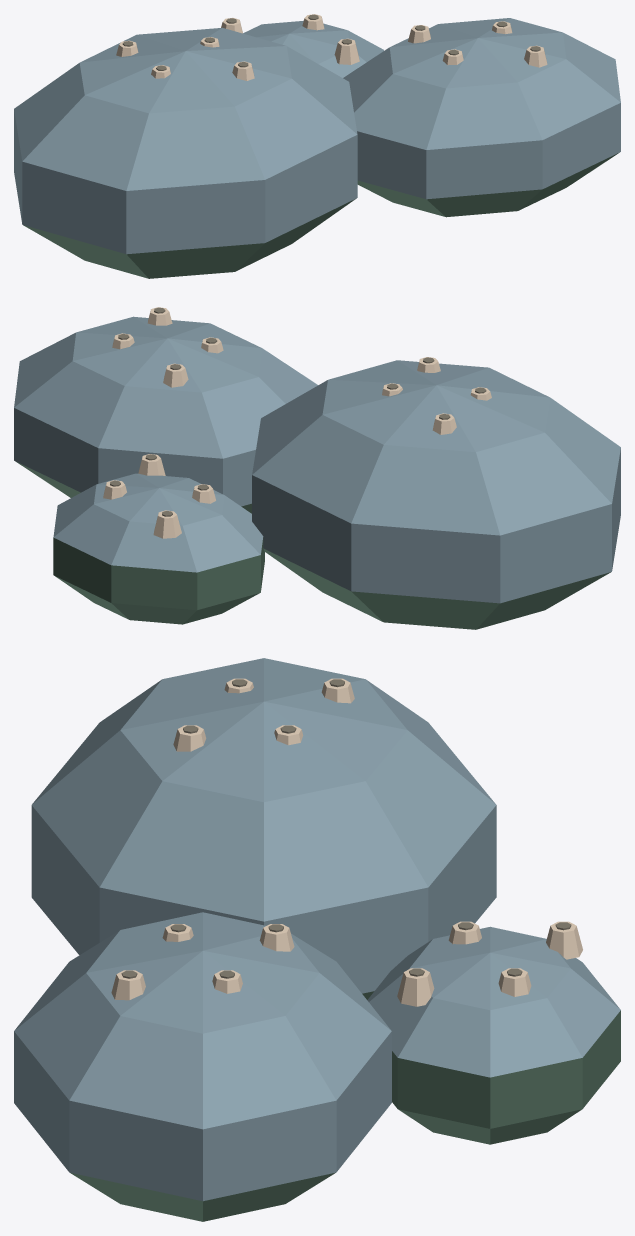
File: intertidal_rocks.glb
3 views of the same model, one above another, from view 1: azimuth 30°, elevation 25°; view 2: azimuth 150°, elevation 25°; view 3: azimuth 270°, elevation 25° (orthographic). The views are drawn at different scales.
Visible parts, largest first — view 1: rock (×3), rock_algae_band (×2), barnacle (×2); view 2: rock (×3), rock_algae_band (×3), barnacle (×2); view 3: rock (×3), rock_algae_band (×2), barnacle (×3).
Part boxes in pixels (left/top/right/bottom): rock (×3): left=14, top=18, right=620, bottom=254; rock_algae_band (×2): left=23, top=152, right=619, bottom=278; barnacle (×2): left=334, top=38, right=547, bottom=67; rock (×3): left=14, top=316, right=620, bottom=603; rock_algae_band (×3): left=15, top=461, right=610, bottom=629; barnacle (×2): left=153, top=363, right=188, bottom=538; rock (×3): left=14, top=658, right=620, bottom=1201; rock_algae_band (×2): left=70, top=1010, right=620, bottom=1221; barnacle (×3): left=111, top=921, right=582, bottom=1006.
Size of the model in its own units: 1.58 by 0.54 by 0.9931.
